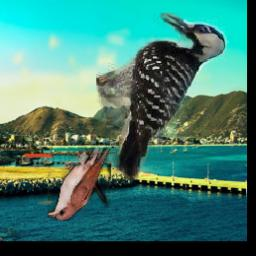Cuckoo: (48, 148, 111, 221)
Woodpecker: (96, 13, 229, 180)
